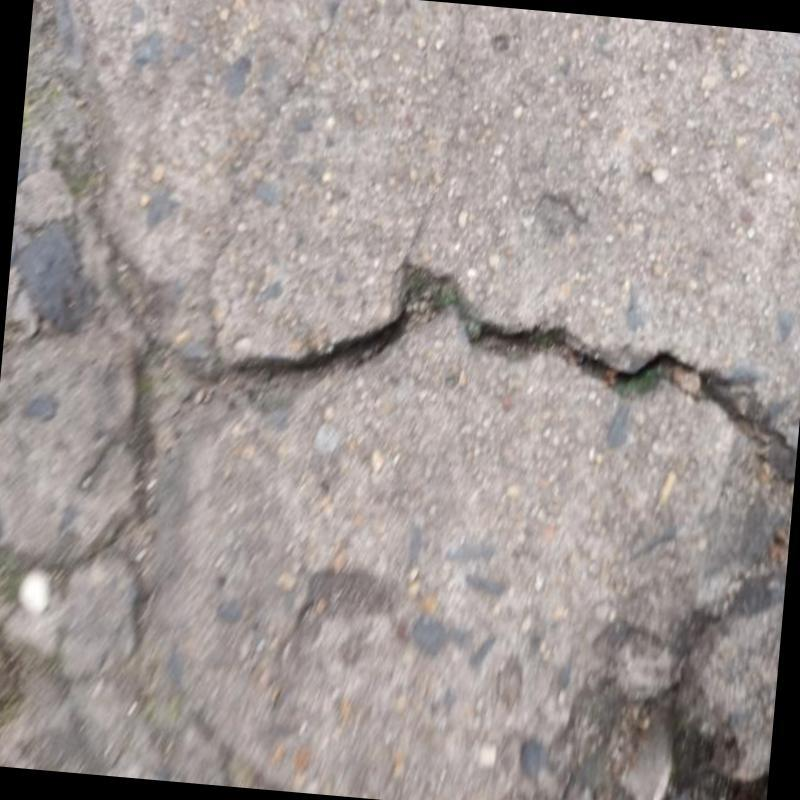crack: (188, 261, 796, 483)
